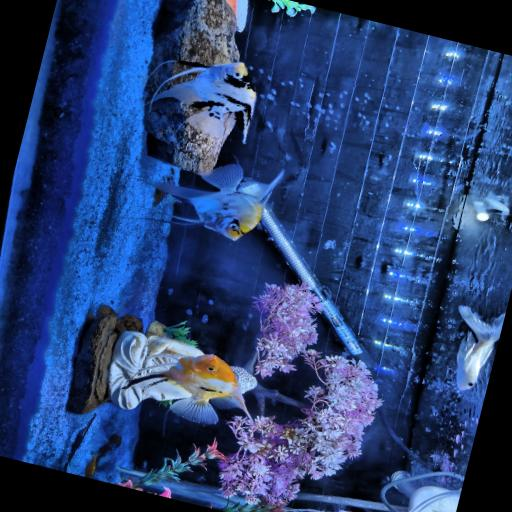Fish: (144, 164, 282, 240), (150, 60, 255, 142), (137, 354, 249, 424), (456, 306, 504, 390), (84, 454, 97, 477), (282, 509, 318, 511)
